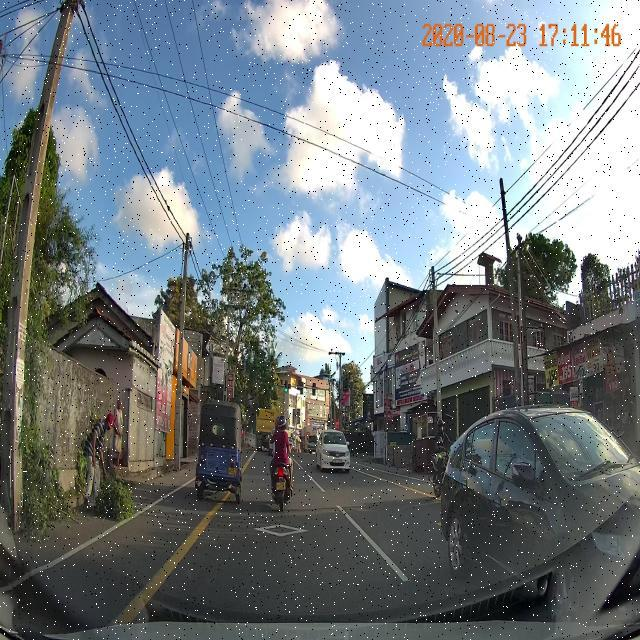diamond: (174, 502, 379, 545)
